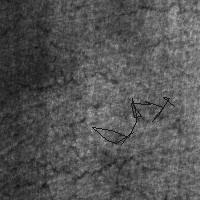crazing: (1, 134, 174, 181), (1, 82, 116, 129), (92, 97, 174, 144)
